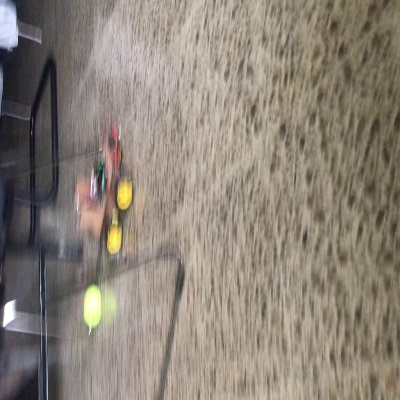Ball: (83, 285, 101, 326)
Robot: (74, 142, 132, 254)
